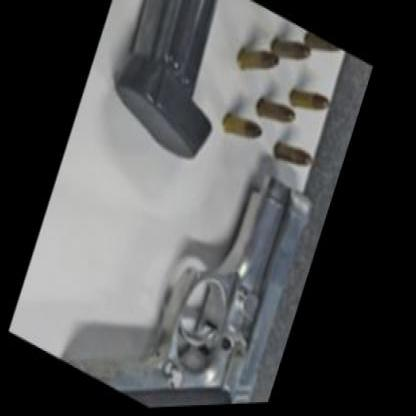pistol: (61, 85, 334, 410)
